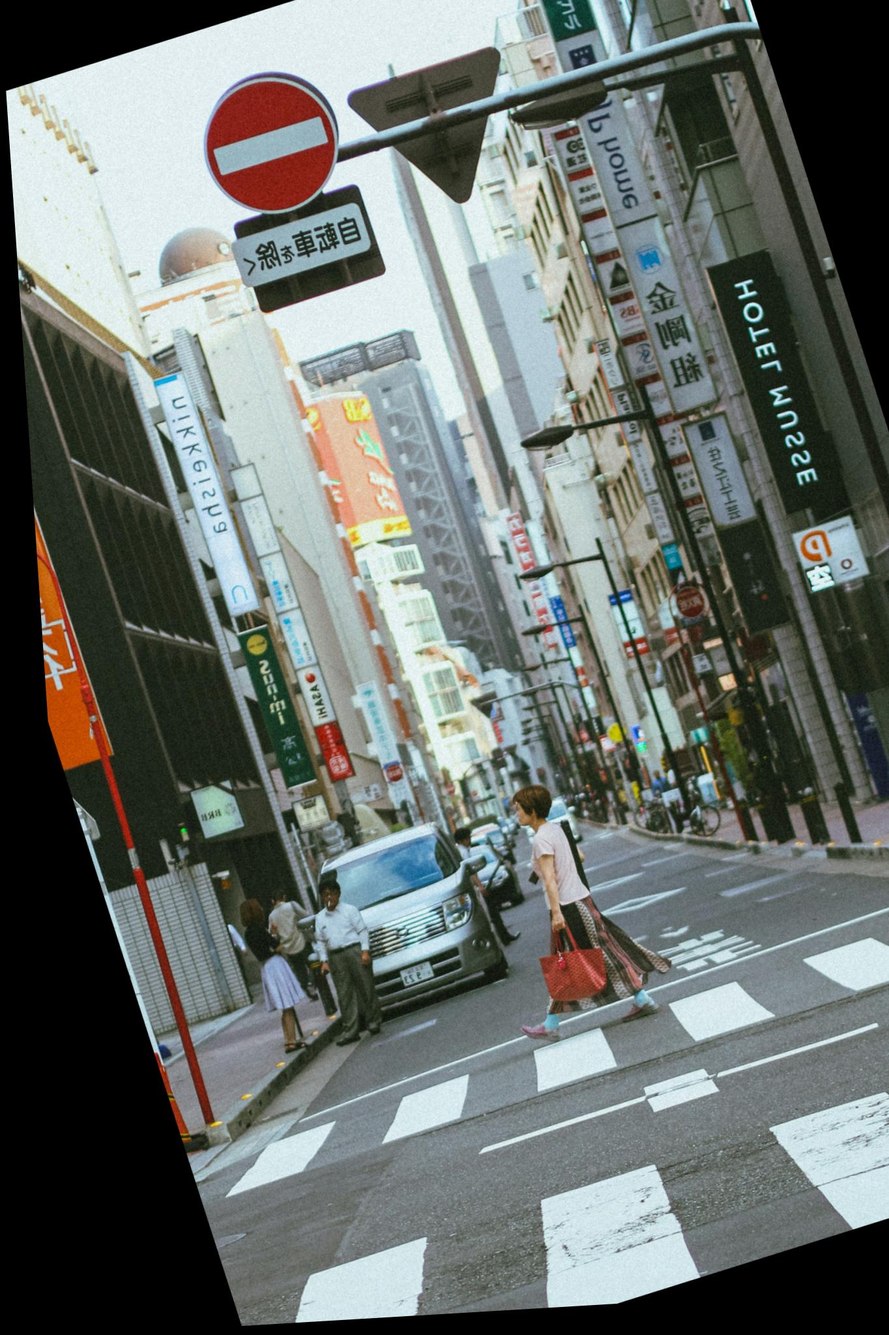barrier: (175, 48, 369, 240)
